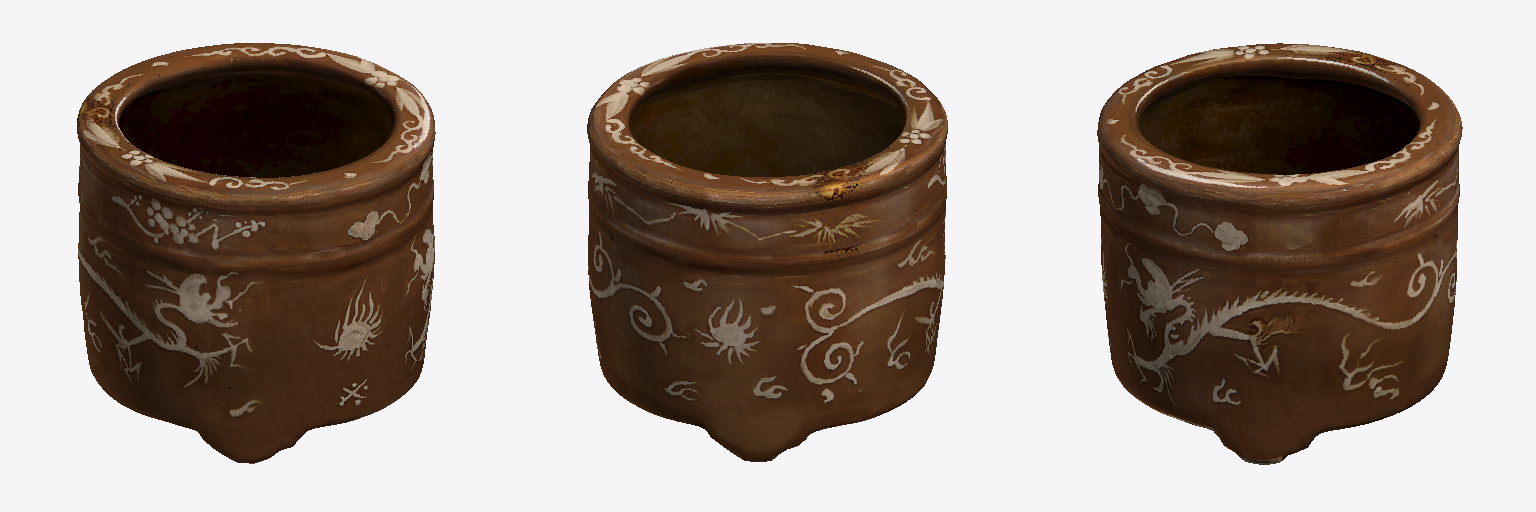
3 views of the same model, side by side, from view 1: azimuth 30°, elevation 25°; view 2: azimuth 150°, elevation 25°; view 3: azimuth 270°, elevation 25° (orthographic).
Parts seen in each view (by area): view 1: SZB_zzl_135_9; view 2: SZB_zzl_135_9; view 3: SZB_zzl_135_9.
Part boxes in pixels (left/top/right/bottom): SZB_zzl_135_9: left=77, top=43, right=435, bottom=463; SZB_zzl_135_9: left=587, top=43, right=947, bottom=461; SZB_zzl_135_9: left=1097, top=43, right=1462, bottom=464.
Size of the model in its own units: 21.65 by 18.93 by 22.03.
1 materials, 1 textured.